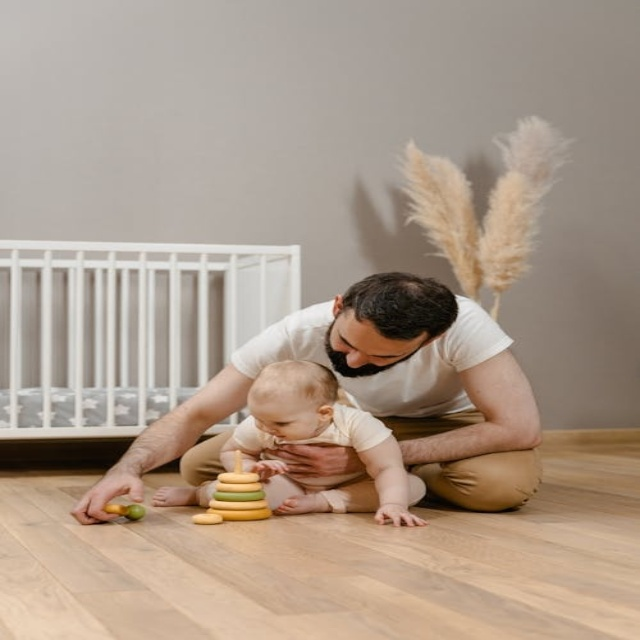Sin_gafas: (334, 323, 411, 368)
Sin_guantes: (64, 467, 155, 521), (272, 443, 354, 480), (373, 501, 429, 527)
